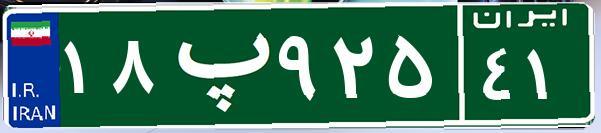1: (57, 26, 110, 107), (525, 38, 570, 115)
2: (330, 28, 385, 110)
4: (475, 38, 525, 113)
5: (385, 28, 445, 110)
8: (110, 28, 158, 105)
9: (273, 28, 330, 110)
پ: (158, 15, 273, 115)
